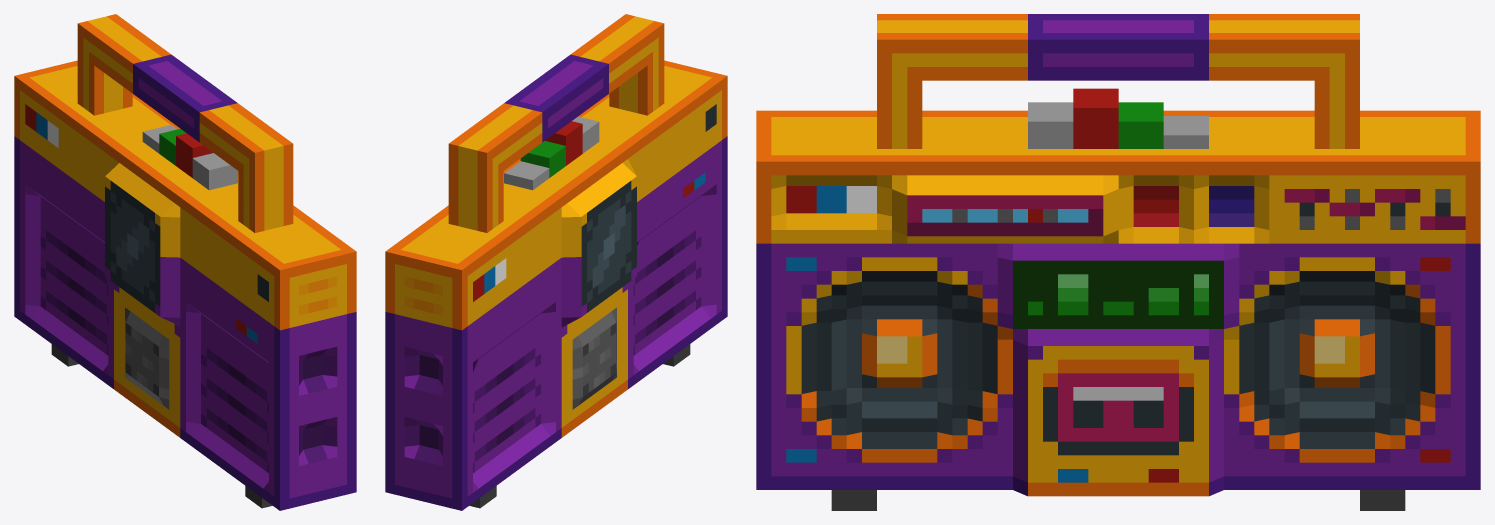
The model's file is low_poly_ghetto_blaster.glb.
3 renders of one model, left to right at view 1: azimuth 30°, elevation 25°; view 2: azimuth 150°, elevation 25°; view 3: azimuth 270°, elevation 25°, orthographic. The views are drawn at different scales.
Visible parts, largest first — view 1: Object_2; view 2: Object_2; view 3: Object_2.
Boxes of the visible parts, box(x1,y1,x2,y2) form: Object_2: box(14, 14, 356, 510); Object_2: box(385, 14, 727, 510); Object_2: box(756, 14, 1480, 510).
Size of the model in its own units: 0.6562 by 2.13 by 3.
1 material, 1 textured.
